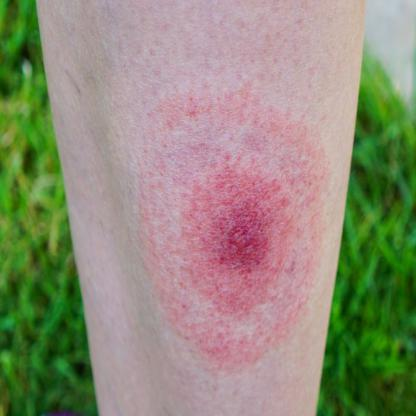Tick: (131, 78, 332, 376)
